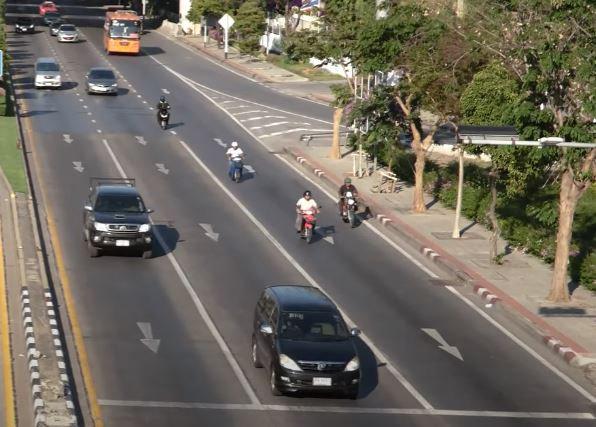Bus: (103, 9, 142, 56)
Car: (250, 284, 364, 400), (82, 176, 155, 258), (34, 57, 62, 89), (86, 68, 118, 95), (57, 24, 78, 43), (13, 17, 35, 34)
Motorcycle: (294, 190, 323, 244), (337, 177, 360, 229), (225, 139, 248, 184), (156, 95, 172, 131)
